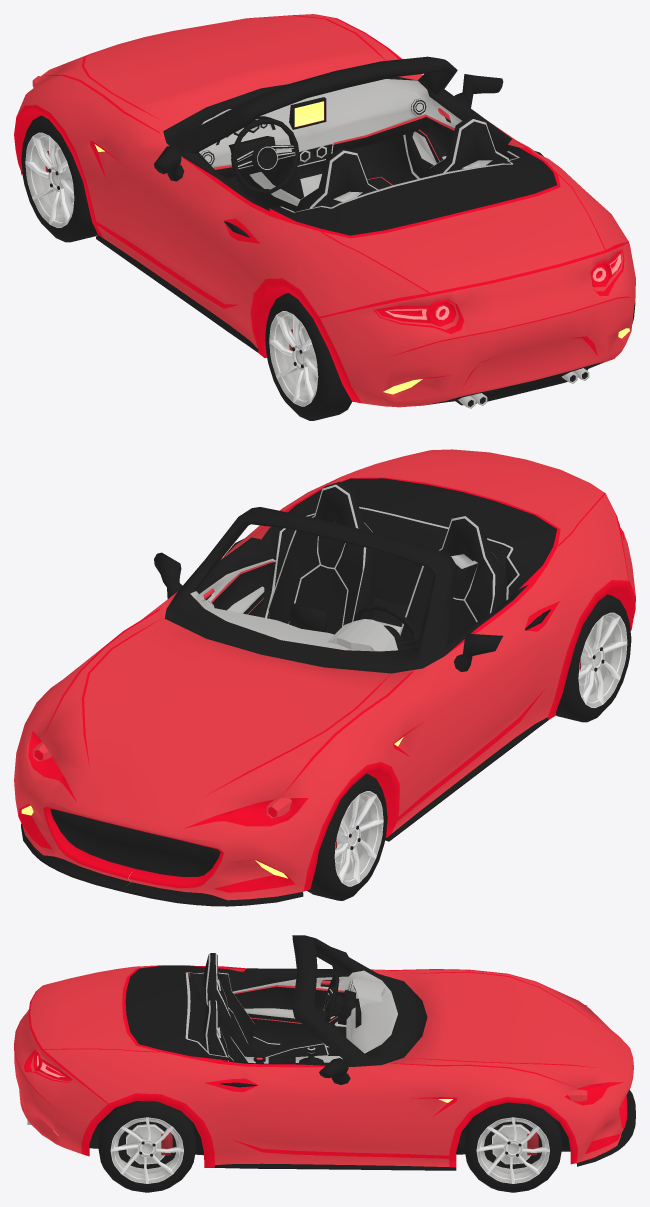
The picture shows the model from 3 angles, top to bottom: view 1: azimuth 30°, elevation 25°; view 2: azimuth 150°, elevation 25°; view 3: azimuth 270°, elevation 25°; orthographic projection. The views are drawn at different scales.
Visible parts, largest first — view 1: Plane, Circle.001, Circle.002, Plane.001, Cube; view 2: Plane, Plane.001, Circle.002, Circle.001, Cube; view 3: Plane, Circle.001, Circle.002, Plane.001, Cube.
Part boxes in pixels (<box>): Plane: <box>14,14,635,408</box>; Circle.001: <box>265,293,635,420</box>; Circle.002: <box>21,115,97,242</box>; Plane.001: <box>294,116,509,211</box>; Cube: <box>209,109,299,193</box>; Plane: <box>14,449,635,906</box>; Plane.001: <box>268,482,506,641</box>; Circle.002: <box>307,773,387,900</box>; Circle.001: <box>556,594,631,722</box>; Cube: <box>327,605,419,651</box>; Plane: <box>14,935,635,1170</box>; Circle.001: <box>98,1101,196,1192</box>; Circle.002: <box>464,1102,561,1192</box>; Plane.001: <box>202,953,328,1062</box>; Cube: <box>321,974,385,1025</box>.
Bounding box in the file's own units: 105 × 66.95 × 218.
